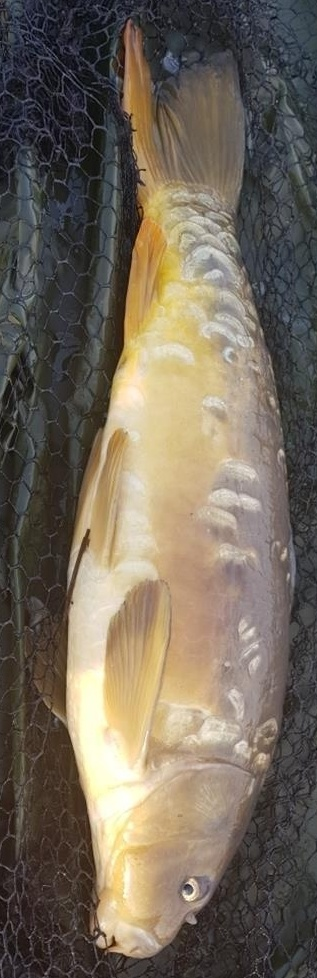Cyprinus carpio: (20, 20, 297, 958)
